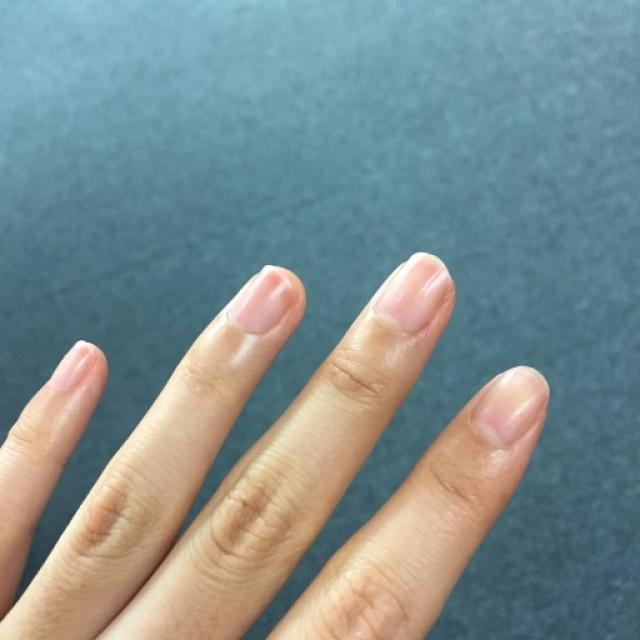Nail: (471, 368, 550, 447), (376, 252, 451, 333), (228, 265, 298, 333), (49, 341, 99, 391)
